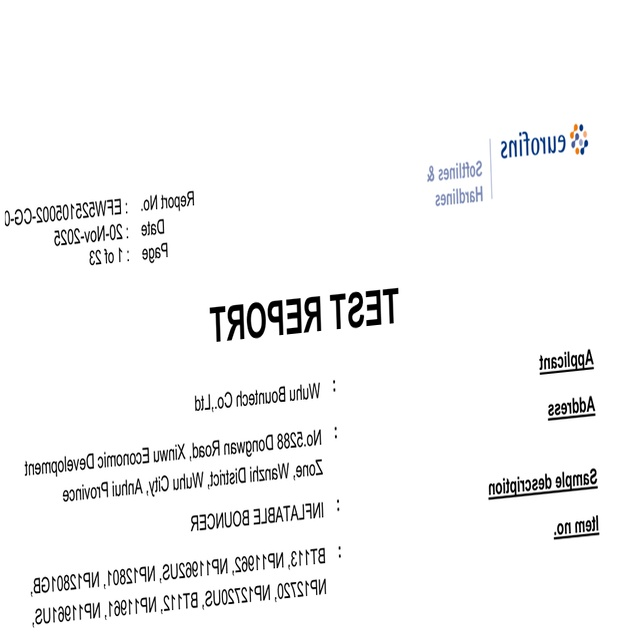eurofins: (494, 117, 597, 167)
